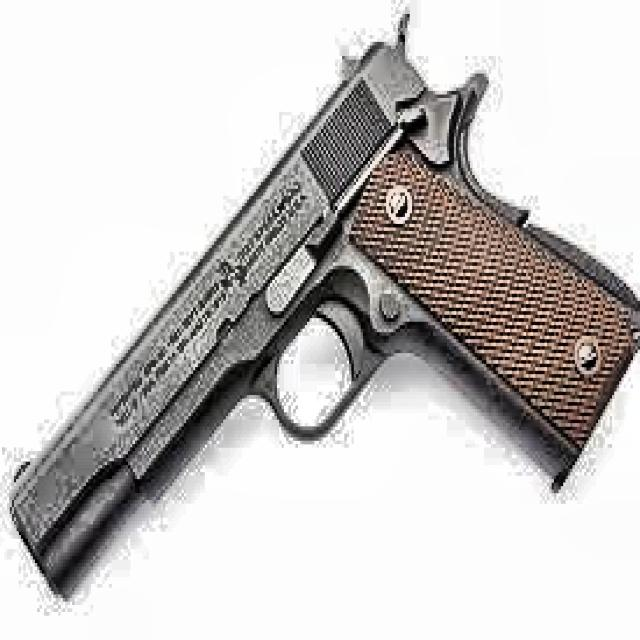Colt m1911: (5, 7, 638, 602)
